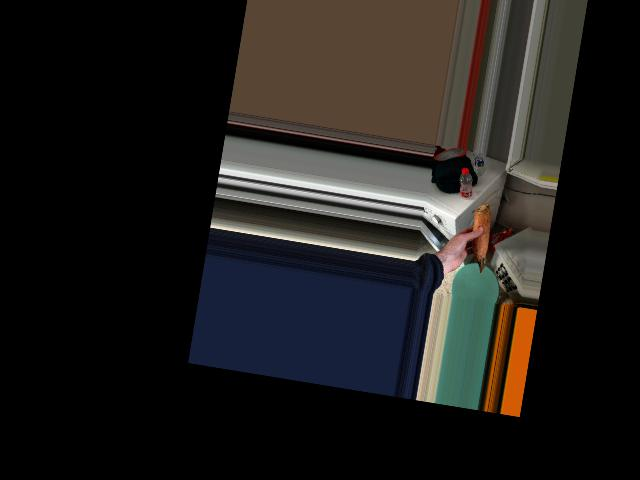sweet_potato: (461, 208, 493, 271)
